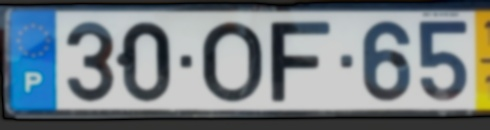0: (121, 19, 170, 103)
3: (63, 17, 115, 104)
5: (417, 19, 468, 103)
6: (360, 17, 412, 103)
F: (269, 20, 332, 103)
O: (200, 19, 264, 104)
